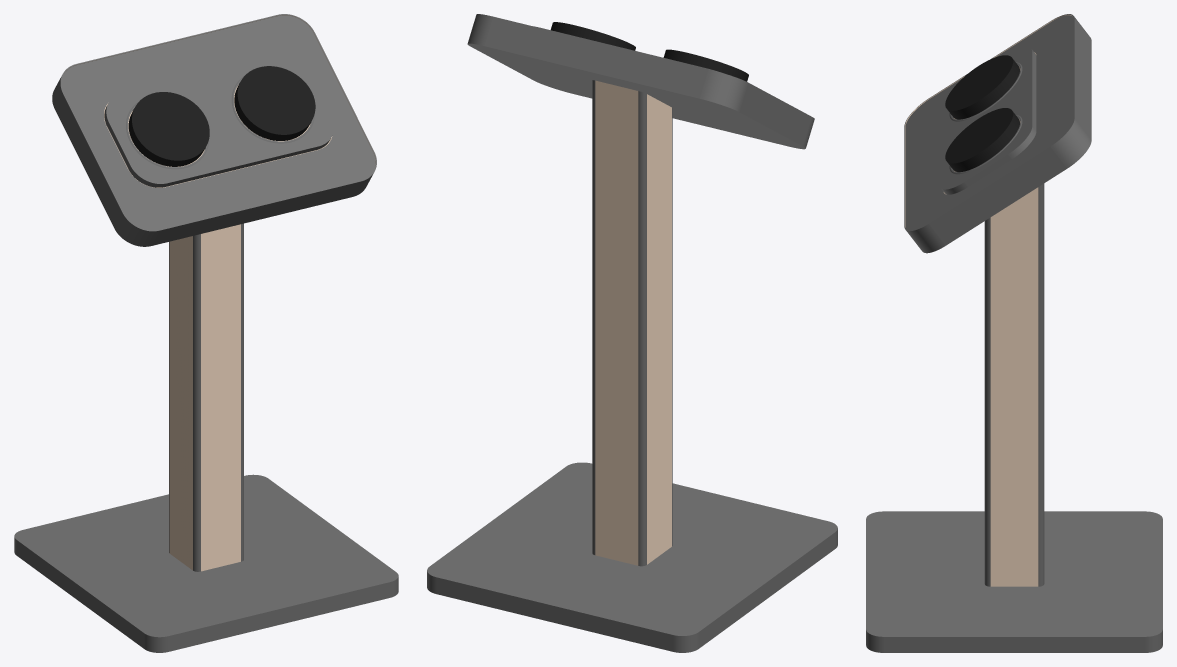
Rendered from button.fbx.
The picture shows the model from 3 angles, left to right: view 1: azimuth 30°, elevation 25°; view 2: azimuth 150°, elevation 25°; view 3: azimuth 270°, elevation 25°; orthographic projection. The views are drawn at different scales.
Parts seen in each view (by area): view 1: Model, Group1, Group2; view 2: Model, Group1, Group2; view 3: Model, Group1, Group2.
Part boxes in pixels (box(x1,y1,x2,y2)): Model: box(14, 223, 398, 652); Group1: box(52, 14, 376, 246); Group2: box(128, 92, 209, 166); Model: box(427, 80, 837, 652); Group1: box(467, 14, 814, 149); Group2: box(663, 49, 748, 81); Model: box(866, 183, 1162, 652); Group1: box(904, 14, 1091, 253); Group2: box(945, 55, 1019, 119).
Size of the model in its own units: 500 by 970 by 500.
